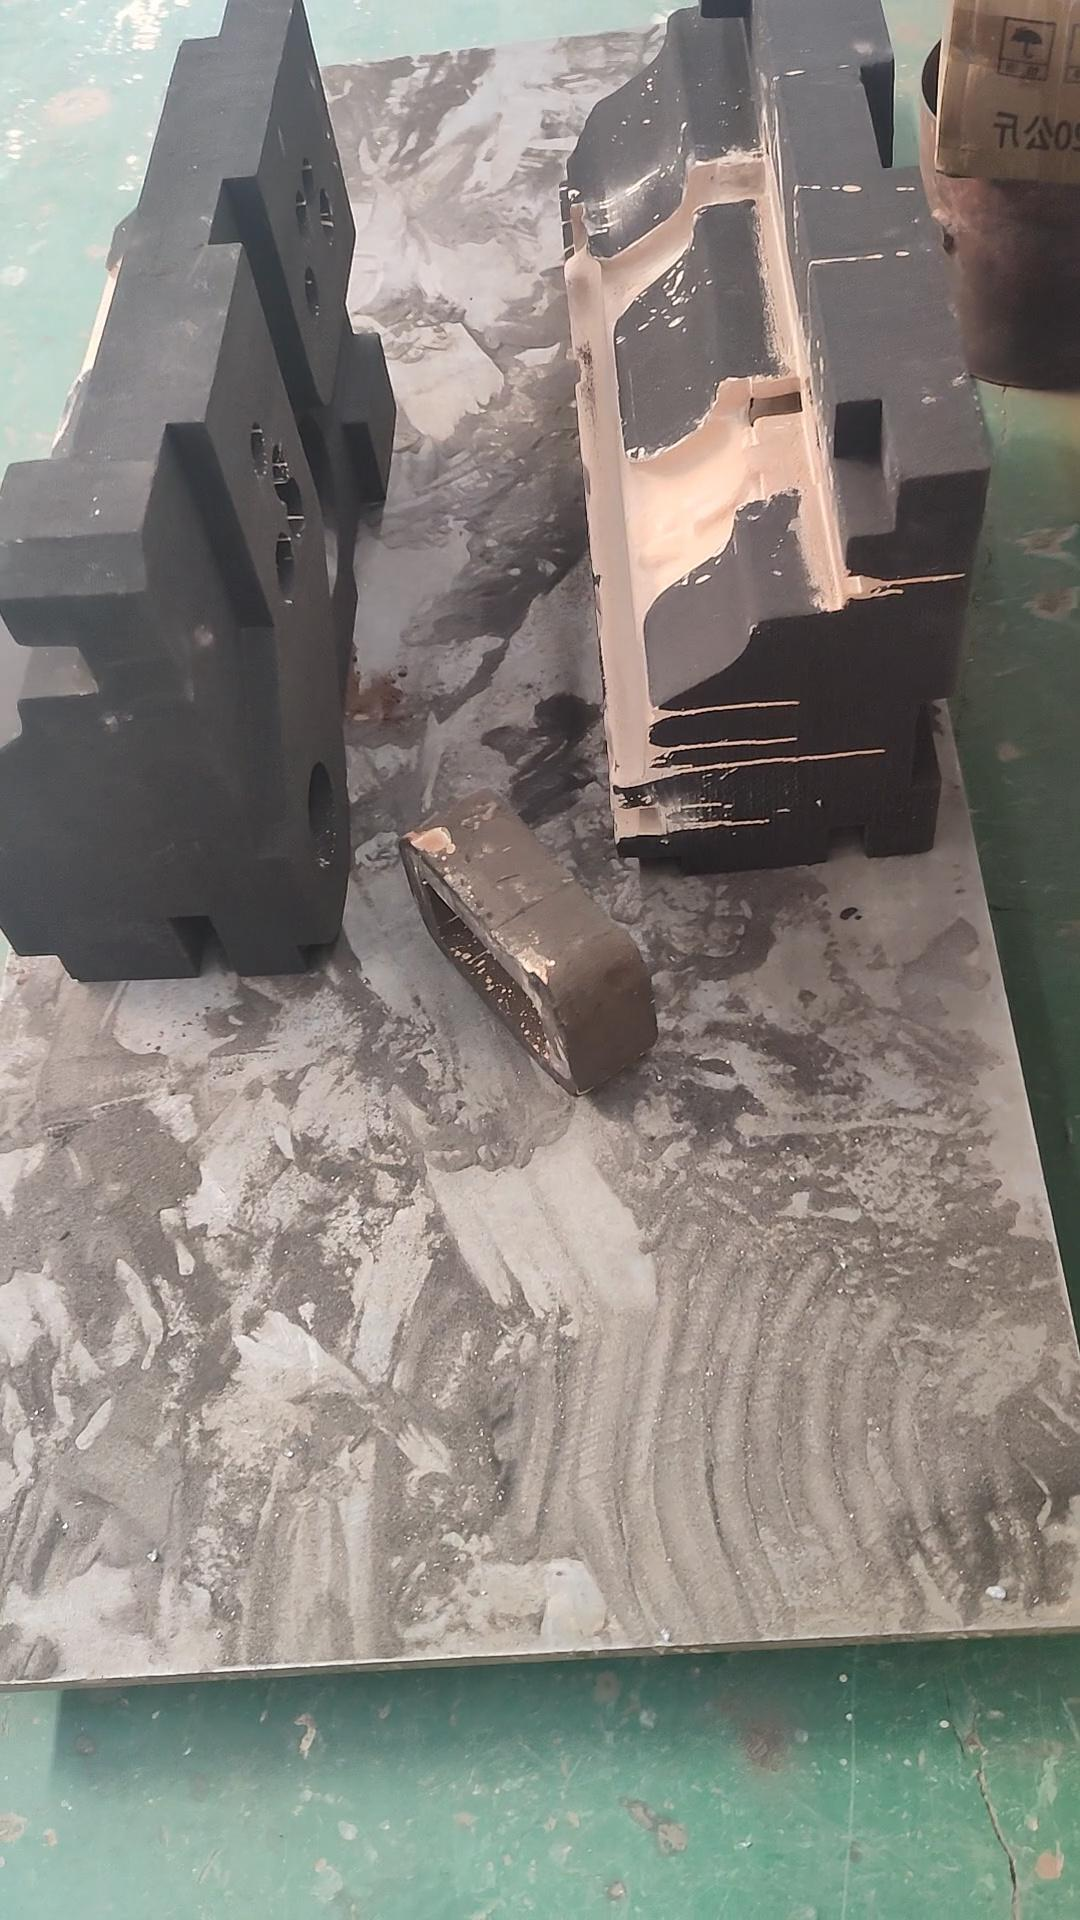pouring hole: (309, 762, 338, 870)
